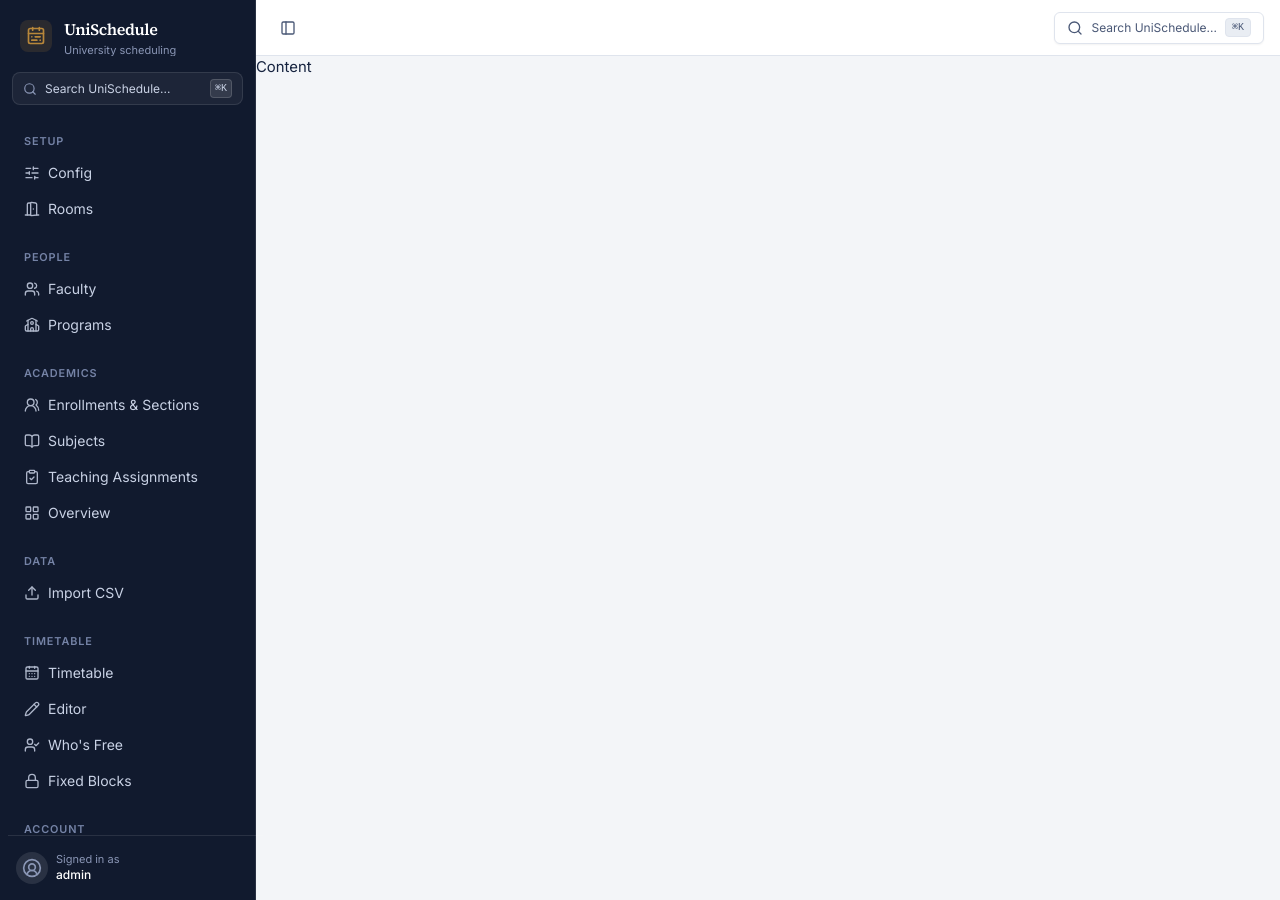
Test: AppShell with official shadcn Sidebar › opens Universal Search modal via header search button and keyboard shortcut
This screenshot has width=1280, height=900.
What coordinates should you click on to do the following:
click the button "Search UniSchedule... ⌘K" below "University scheduling"
I would click on:
 (128, 89)
Its box is [12, 72, 243, 105].
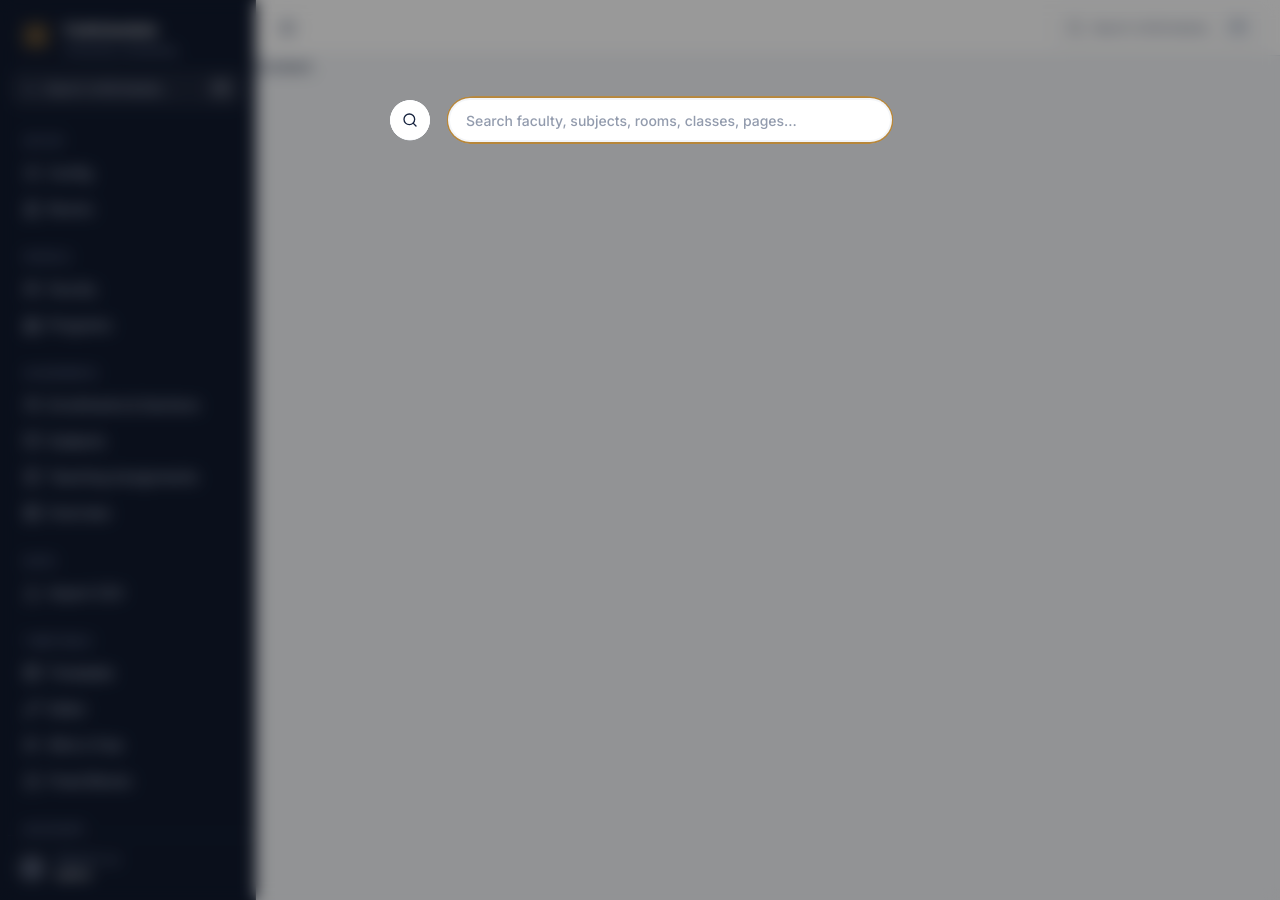
Now the dialog is shown
